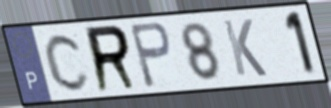1: (282, 9, 319, 77)
8: (177, 21, 223, 82)
C: (42, 31, 93, 93)
K: (220, 17, 270, 78)
P: (126, 20, 174, 90)
R: (83, 22, 140, 95)
